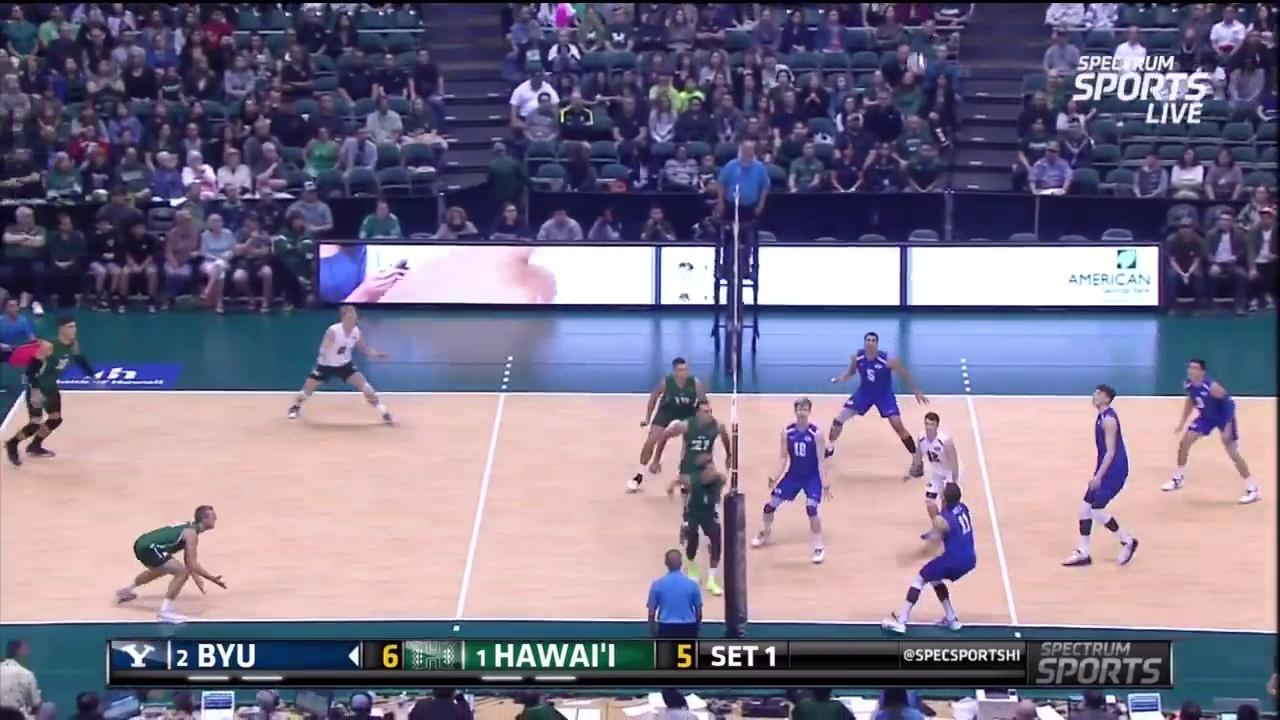player: (1056, 386, 1140, 569), (1161, 357, 1262, 506), (884, 481, 979, 632), (818, 331, 924, 465), (0, 313, 90, 467), (285, 307, 398, 423), (111, 506, 230, 614), (754, 396, 830, 562), (629, 359, 709, 489), (664, 397, 729, 554), (664, 448, 726, 601), (913, 411, 966, 547)
refree: (712, 139, 774, 274), (644, 548, 708, 647), (0, 299, 47, 404)
